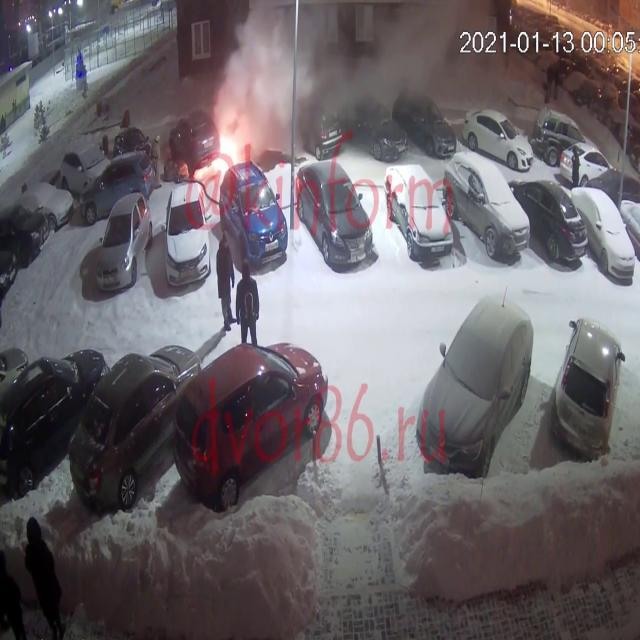Fire: (198, 118, 252, 176)
Smoke: (208, 0, 558, 148)
